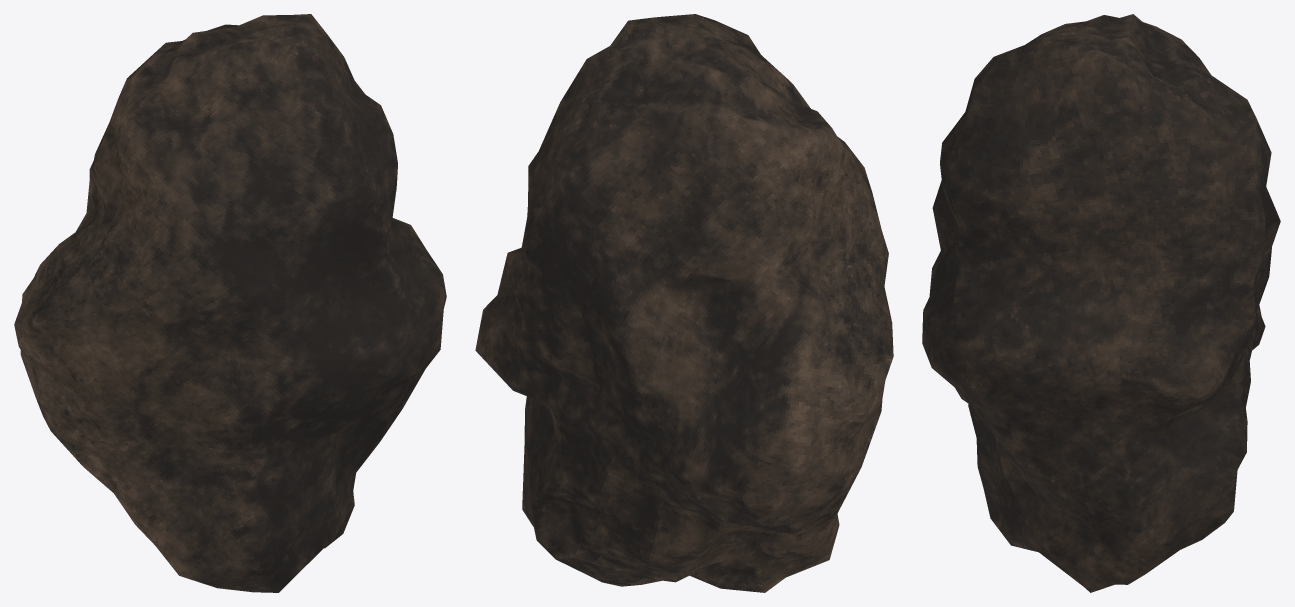
Rendered from SM_RP2_Rock_4m_11.002.glb.
The picture shows the model from 3 angles, left to right: view 1: azimuth 30°, elevation 25°; view 2: azimuth 150°, elevation 25°; view 3: azimuth 270°, elevation 25°; orthographic projection. The views are drawn at different scales.
Visible parts, largest first — view 1: SM_RP2_Rock_4m_11.002; view 2: SM_RP2_Rock_4m_11.002; view 3: SM_RP2_Rock_4m_11.002.
Part boxes in pixels (x1,y1,x2,y2): SM_RP2_Rock_4m_11.002: (14,14,446,592); SM_RP2_Rock_4m_11.002: (475,14,893,592); SM_RP2_Rock_4m_11.002: (922,14,1280,592).
Bounding box in the file's own units: 4.58 × 6.3 × 3.83.
Materials: 1 (1 with a texture image).
